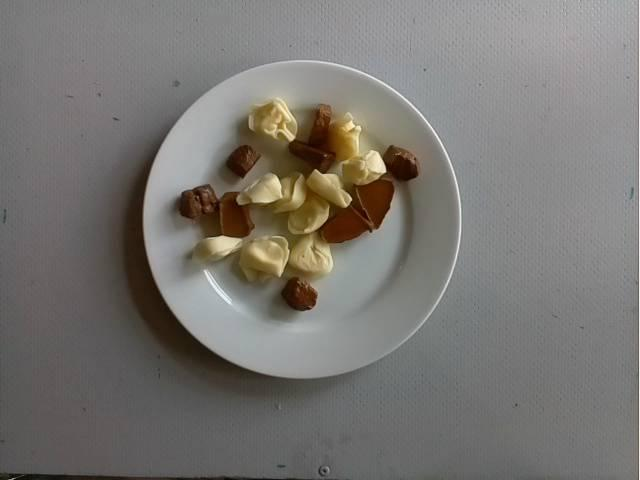Tortellini + meat: (179, 104, 424, 310)
